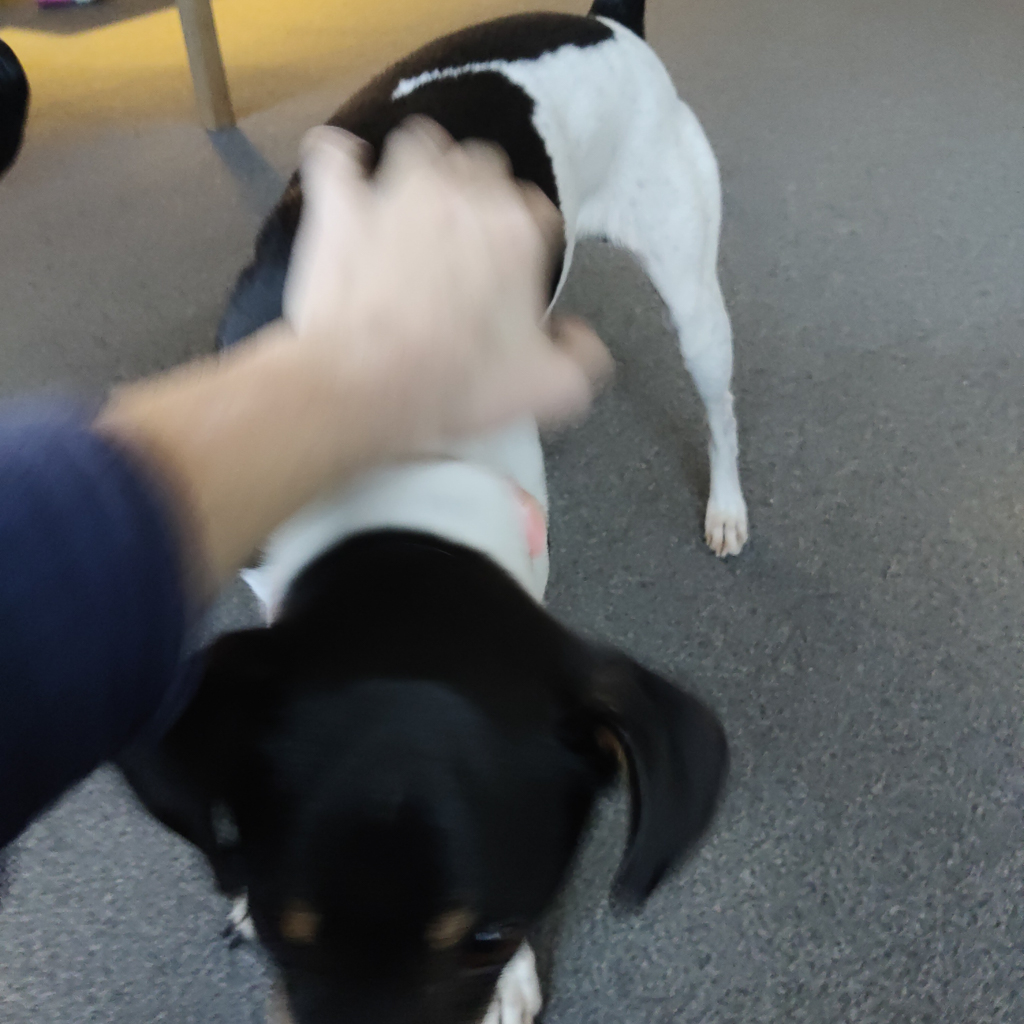Dog: (84, 0, 809, 1024)
Humanoid: (0, 100, 642, 940)
